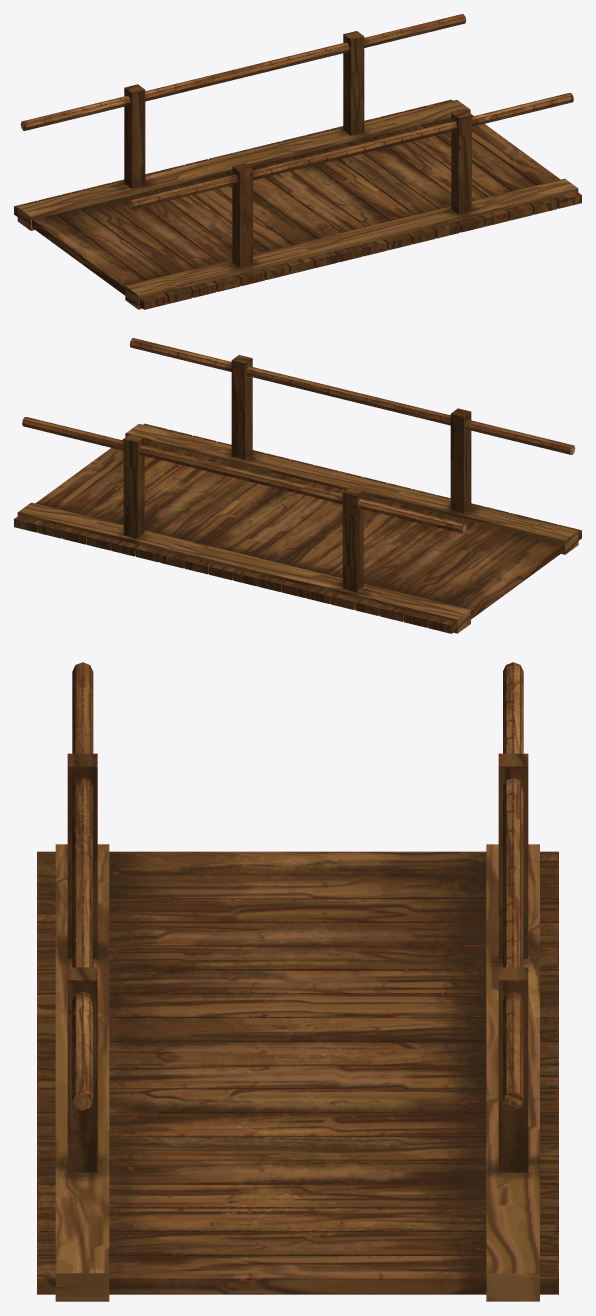
The model's file is Jembatan.fbx.
3 renders of one model, top to bottom at view 1: azimuth 30°, elevation 25°; view 2: azimuth 150°, elevation 25°; view 3: azimuth 270°, elevation 25°, orthographic. The views are drawn at different scales.
Visible parts, largest first — view 1: jembatan; view 2: jembatan; view 3: jembatan.
Part boxes in pixels (left/top/right/bottom): jembatan: left=14, top=14, right=581, bottom=309; jembatan: left=14, top=338, right=581, bottom=633; jembatan: left=37, top=662, right=558, bottom=1301.
Size of the model in its own units: 573 by 137 by 294.
1 material, 1 textured.
